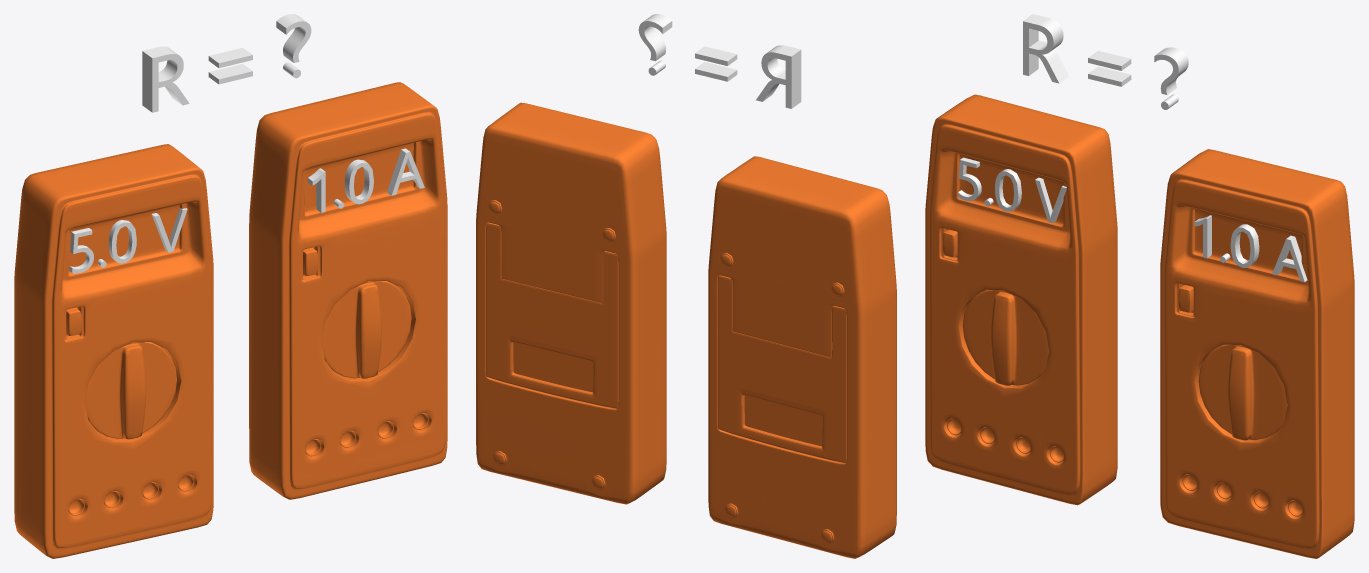
File: q1fixsize2.fbx
3 renders of one model, left to right at view 1: azimuth 30°, elevation 25°; view 2: azimuth 150°, elevation 25°; view 3: azimuth 330°, elevation 25°, orthographic. The views are drawn at different scales.
Parts seen in each view (by area): view 1: node_id9, node_id24, node_id12, node_id27, node_id39, node_id34, node_id19; view 2: node_id24, node_id9, node_id30, node_id15, node_id39; view 3: node_id24, node_id9, node_id27, node_id12, node_id39, node_id34, node_id19.
Boxes of the visible parts, box(x1,y1,x2,y2) form: node_id9: box(14, 144, 213, 558); node_id24: box(249, 82, 447, 499); node_id12: box(84, 342, 176, 439); node_id27: box(321, 281, 411, 378); node_id39: box(142, 14, 311, 112); node_id34: box(307, 148, 424, 212); node_id19: box(69, 208, 187, 273); node_id24: box(476, 102, 666, 504); node_id9: box(708, 156, 896, 558); node_id30: box(486, 222, 618, 408); node_id15: box(718, 275, 846, 463); node_id39: box(638, 14, 801, 108); node_id24: box(1160, 149, 1354, 558); node_id9: box(925, 94, 1117, 505); node_id27: box(1198, 344, 1287, 440); node_id12: box(962, 289, 1049, 385); node_id39: box(1023, 14, 1188, 109); node_id34: box(1194, 215, 1307, 282); node_id19: box(958, 157, 1066, 222).
Size of the model in its own units: 7.73 by 8.81 by 1.49.
Materials: 9 (6 with a texture image).
